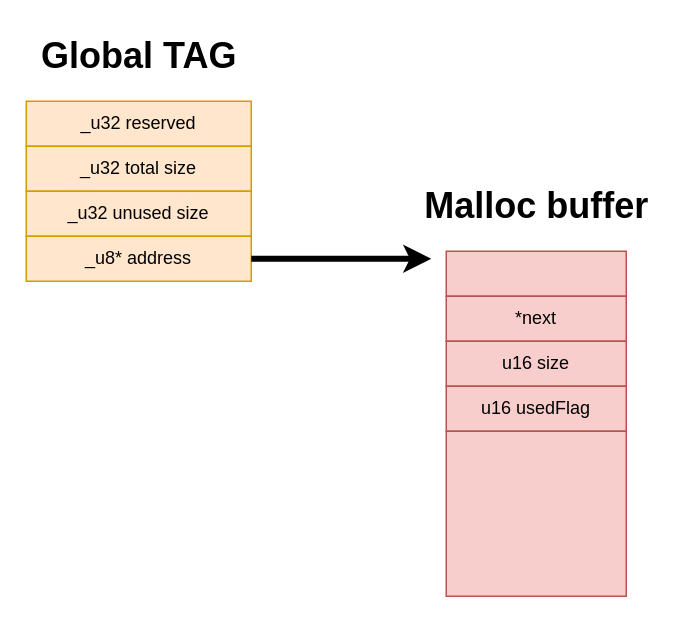
Image size: 674x623. Some labels were removed from this diagram. Each missing label, with the centre of its shape:
"*previous" belongs at pixel 535 273.
"data" belongs at pixel 535 513.
